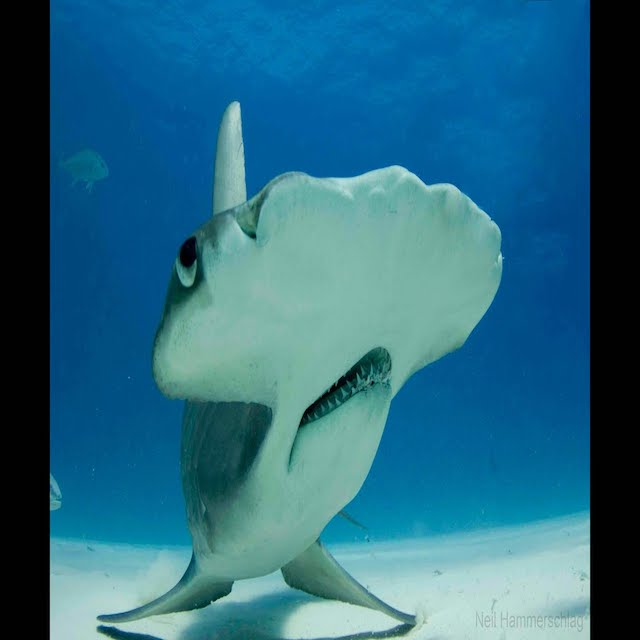hammerhead: (100, 149, 513, 638)
